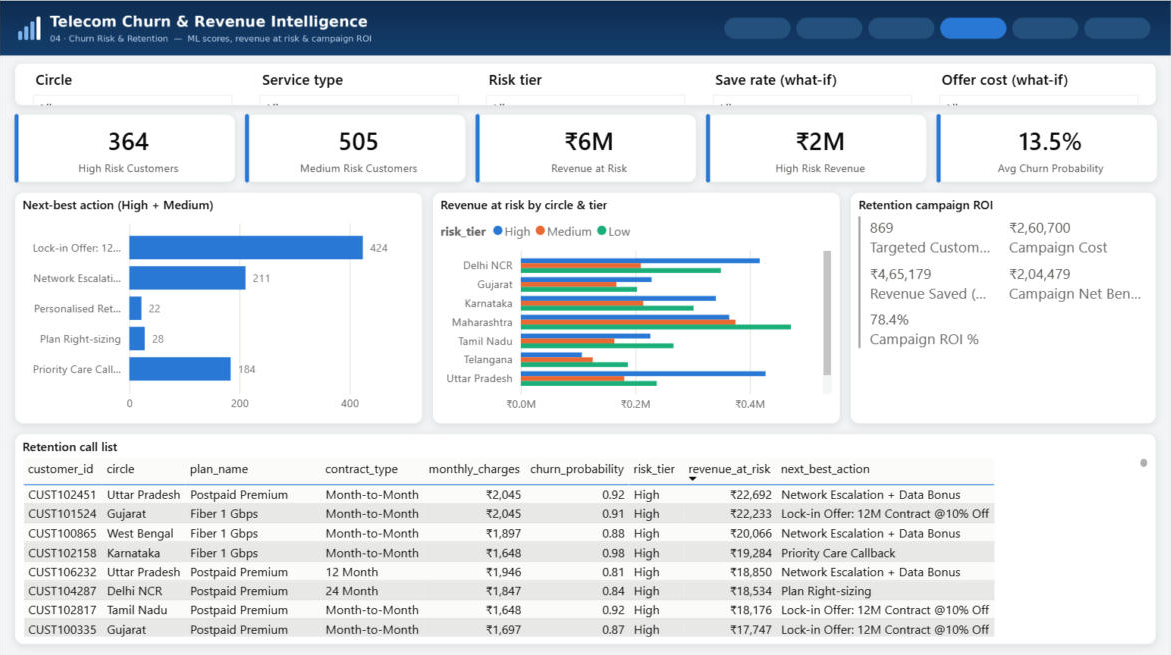

This screenshot's page, from the dashboard's own definition file:
{"tool":"powerbi","page":{"name":"Risk & Retention","canvas":[1280,720],"ordinal":3},"visuals":[{"type":"slicer","fields":{"Values":["dim_geography.circle"]},"box":[26,69,237.6,44.7],"z":0},{"type":"slicer","fields":{"Values":["dim_customer.service_type"]},"box":[273.6,69,237.6,44.7],"z":1000},{"type":"slicer","fields":{"Values":["fact_churn_predictions.risk_tier"]},"box":[521.2,69,237.6,44.7],"z":2000},{"type":"slicer","fields":{"Values":["Save Rate.Save Rate"]},"box":[768.8,69,237.6,44.7],"z":3000},{"type":"slicer","fields":{"Values":["Offer Cost.Offer Cost"]},"box":[1016.4,69,237.6,44.7],"z":4000},{"type":"card","fields":{"Values":["_Measures.High Risk Customers"]},"box":[28,128,225.3,66.7],"z":5000},{"type":"card","fields":{"Values":["_Measures.Medium Risk Customers"]},"box":[280,128,225.3,66.7],"z":6000},{"type":"card","fields":{"Values":["_Measures.Revenue at Risk"]},"box":[532,128,225.3,66.7],"z":7000},{"type":"card","fields":{"Values":["_Measures.High Risk Revenue"]},"box":[784,128,225.3,66.7],"z":8000},{"type":"card","fields":{"Values":["_Measures.Avg Churn Probability"]},"box":[1036,128,225.3,66.7],"z":9000},{"type":"clusteredBarChart","title":"Next-best action (High + Medium)","fields":{"Category":["fact_churn_predictions.next_best_action"],"Y":["_Measures.Targeted Customers"]},"box":[20,213.3,438,245.3],"z":10000},{"type":"clusteredBarChart","title":"Revenue at risk by circle & tier","fields":{"Category":["dim_geography.circle"],"Series":["fact_churn_predictions.risk_tier"],"Y":["_Measures.Revenue at Risk"]},"box":[476.7,213.3,438,245.3],"z":11000},{"type":"multiRowCard","title":"Retention campaign ROI","fields":{"Values":["_Measures.Targeted Customers","_Measures.Campaign Cost","_Measures.Revenue Saved (Gross Margin)","_Measures.Campaign Net Benefit","_Measures.Campaign ROI %"]},"box":[933.3,213.3,326.7,245.3],"z":12000},{"type":"tableEx","title":"Retention call list","fields":{"Values":["fact_churn_predictions.customer_id","fact_churn_predictions.circle","fact_churn_predictions.plan_name","fact_churn_predictions.contract_type","fact_churn_predictions.monthly_charges","fact_churn_predictions.churn_probability","fact_churn_predictions.risk_tier","fact_churn_predictions.revenue_at_risk","fact_churn_predictions.next_best_action"]},"box":[20,477.3,1240,222.7],"z":13000}]}

Visuals, with their boxes on the page's 1280x720 design canvas (x1, y1, x2, y2). These are canvas units, not pixel positions in the 1171x655 screenshot, which may show the page scaled, cropped or inside an application window:
slicer - dim_geography.circle: [26,69,264,114]
slicer - dim_customer.service_type: [274,69,511,114]
slicer - fact_churn_predictions.risk_tier: [521,69,759,114]
slicer - Save Rate.Save Rate: [769,69,1006,114]
slicer - Offer Cost.Offer Cost: [1016,69,1254,114]
card - _Measures.High Risk Customers: [28,128,253,195]
card - _Measures.Medium Risk Customers: [280,128,505,195]
card - _Measures.Revenue at Risk: [532,128,757,195]
card - _Measures.High Risk Revenue: [784,128,1009,195]
card - _Measures.Avg Churn Probability: [1036,128,1261,195]
"Next-best action (High + Medium)" clusteredBarChart: [20,213,458,459]
"Revenue at risk by circle & tier" clusteredBarChart: [477,213,915,459]
"Retention campaign ROI" multiRowCard: [933,213,1260,459]
"Retention call list" tableEx: [20,477,1260,700]
